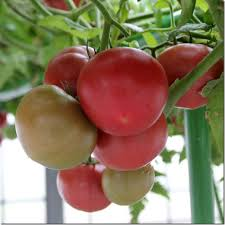tomato: (77, 48, 166, 135), (90, 113, 170, 172), (157, 45, 220, 111), (56, 160, 113, 212), (43, 47, 95, 99)
